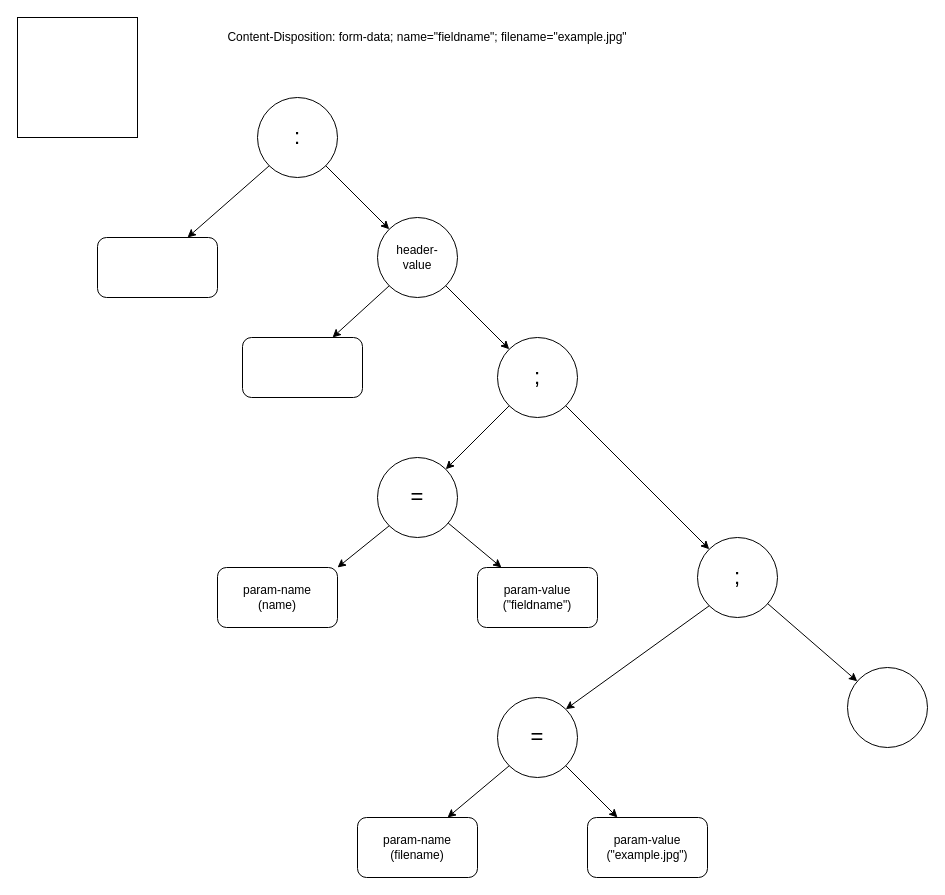
Image size: 945x895. Some labels were removed from this diagram. The centre of each missing label's shape, as x and y in pixels:
"1. : 2. : 3. = 4. EOL" goes at point (77, 77).
"EOL" goes at point (887, 707).
"header-name (Content-Disposition)" goes at point (157, 267).
"header-value" goes at point (302, 367).
